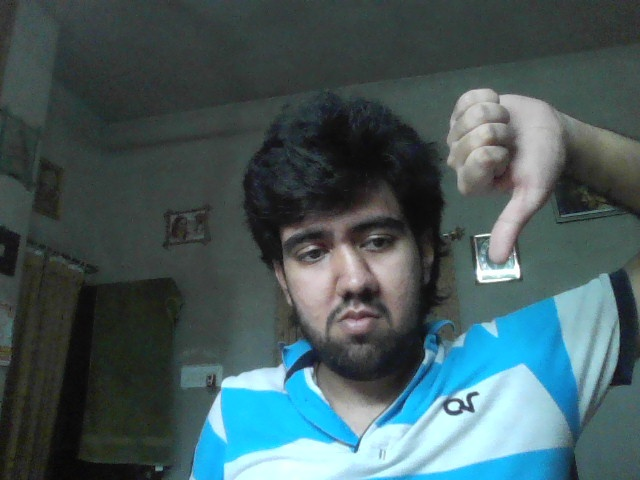NotOk: (451, 88, 560, 265)
